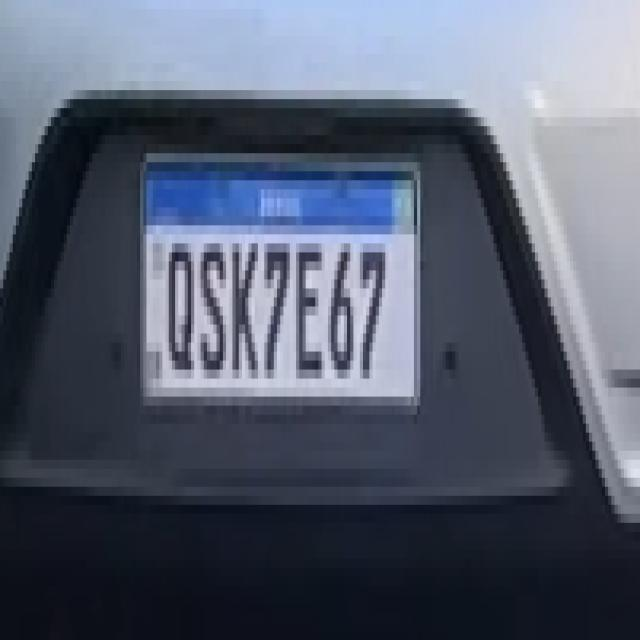Placa_mercosul_carro: (141, 148, 421, 418)
